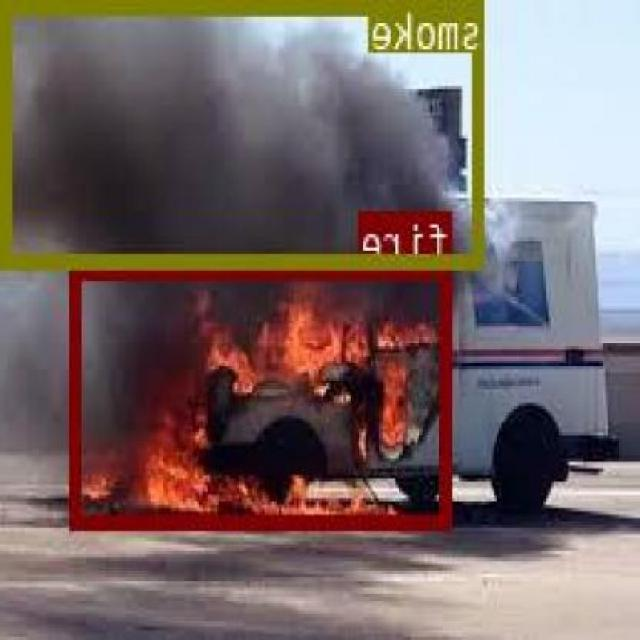fire: (74, 263, 452, 526)
smoke: (5, 1, 487, 264)
